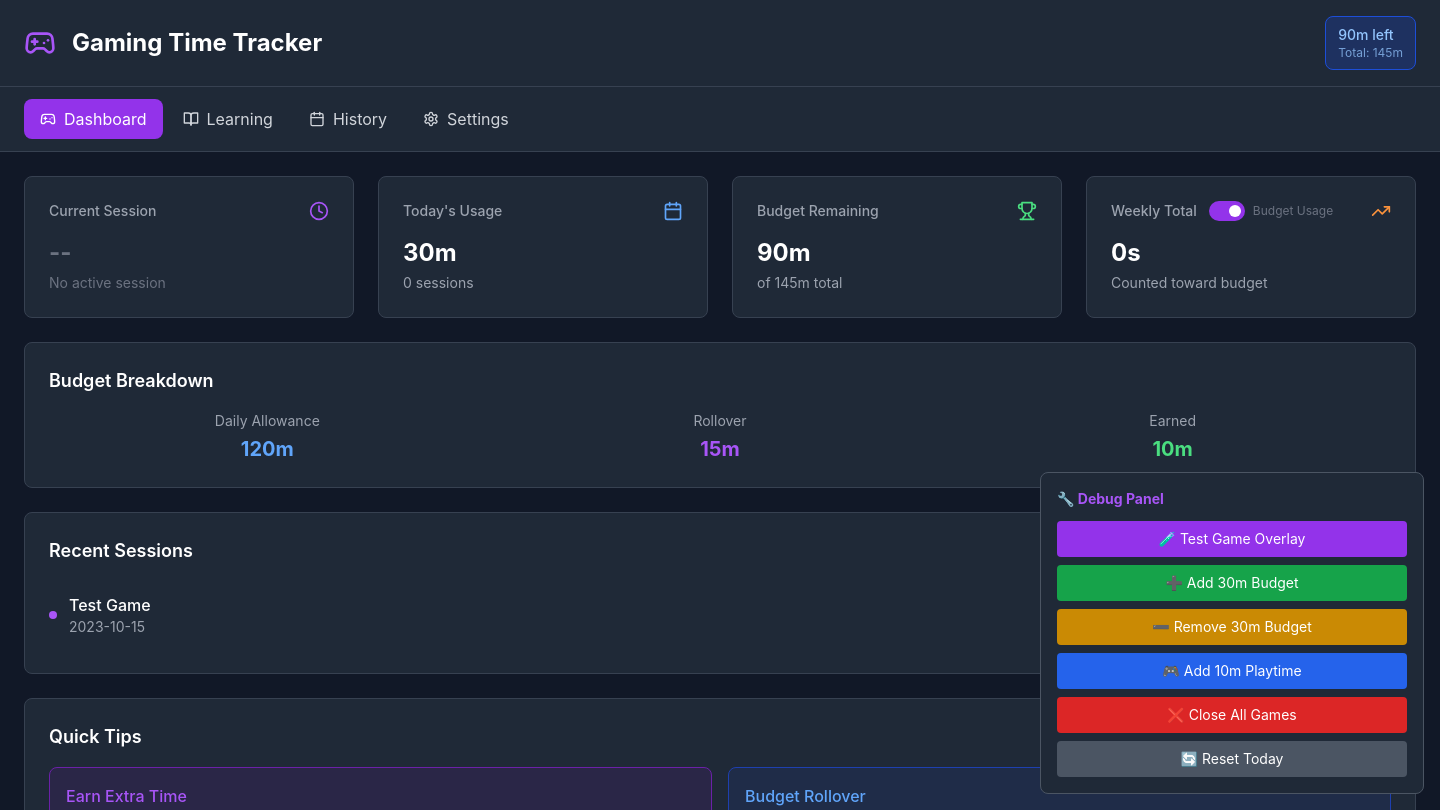
Scenario: Integration Tests › handles learning activity integration
The width and height of the screenshot is (1440, 810).
Expected: the heading "Gaming Time Tracker" is shown, left=72, top=27, right=322, bottom=59
Click the button "Learning" at (228, 119), box left=166, top=99, right=289, bottom=139
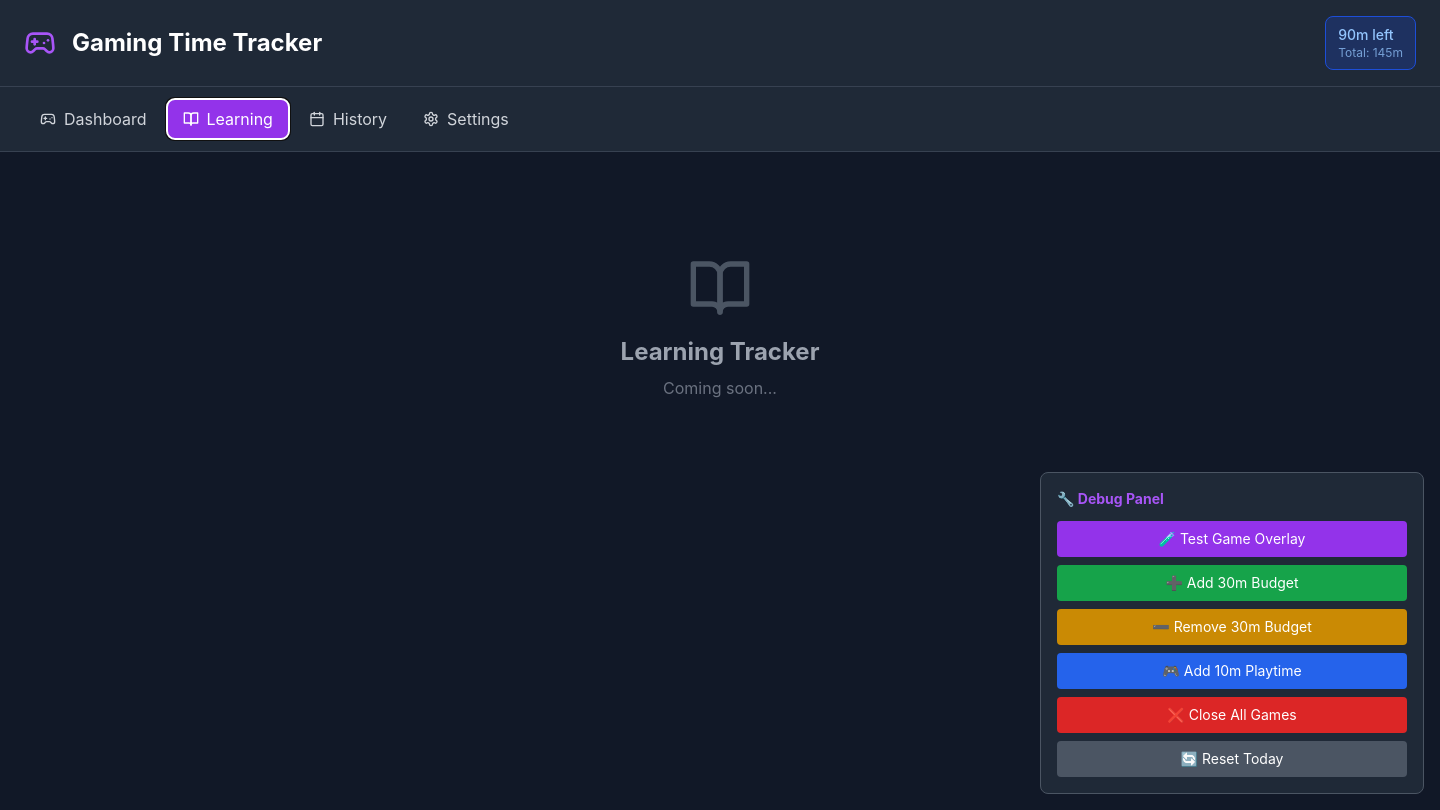
Result: the heading "Learning Tracker" is shown at left=621, top=337, right=819, bottom=366
